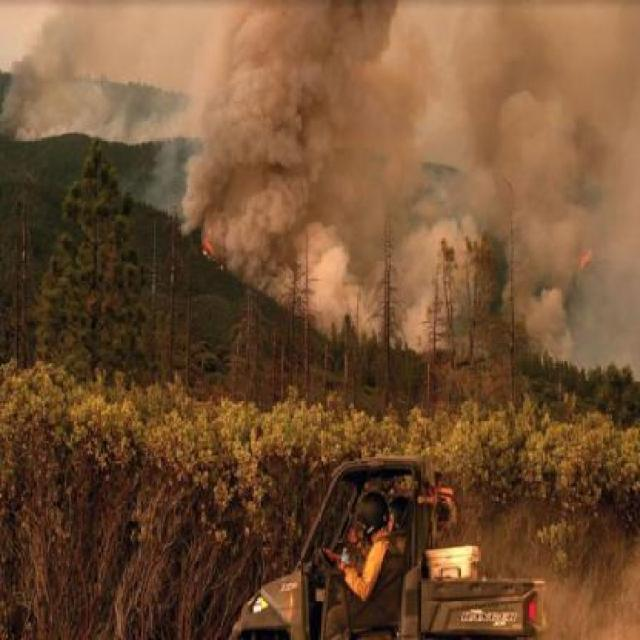Fire: (200, 222, 213, 255), (578, 244, 594, 270)
